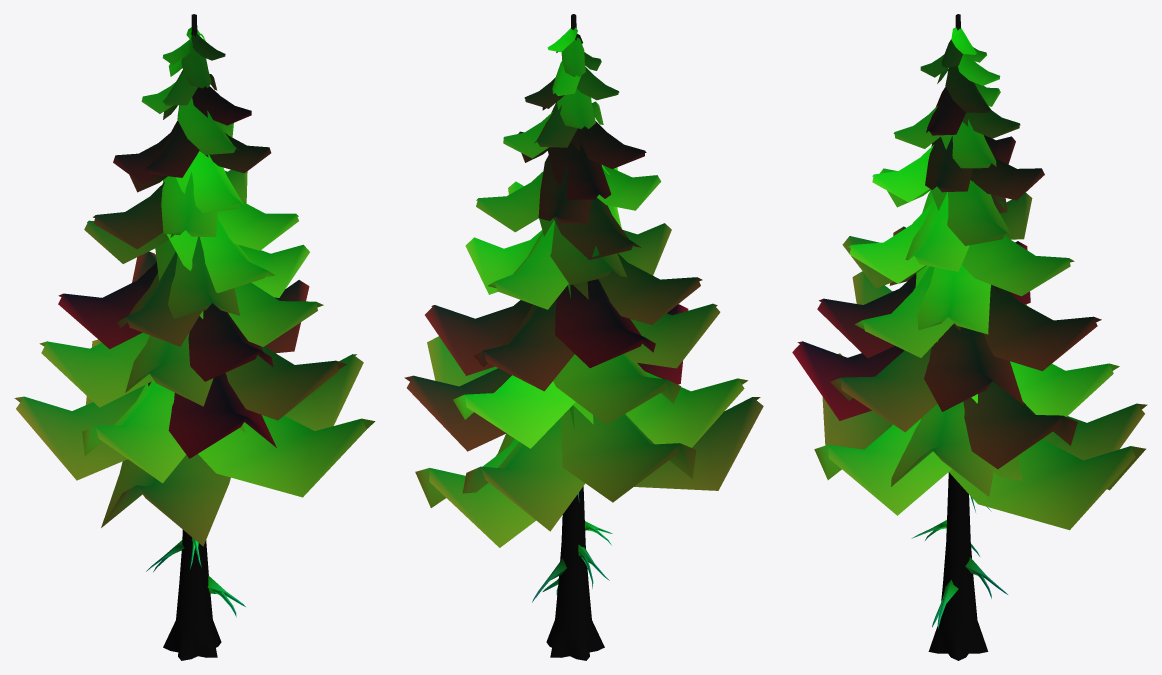
The model's file is M_Pine_6_10.fbx.
The picture shows the model from 3 angles, left to right: view 1: azimuth 30°, elevation 25°; view 2: azimuth 150°, elevation 25°; view 3: azimuth 270°, elevation 25°; orthographic projection.
Visible parts, largest first — view 1: Tree_10; view 2: Tree_10; view 3: Tree_10.
Boxes of the visible parts, bbox=[...] form: Tree_10: bbox=[14, 14, 375, 660]; Tree_10: bbox=[404, 14, 763, 660]; Tree_10: bbox=[792, 14, 1147, 660].
Size of the model in its own units: 1009 by 2004 by 1019.
